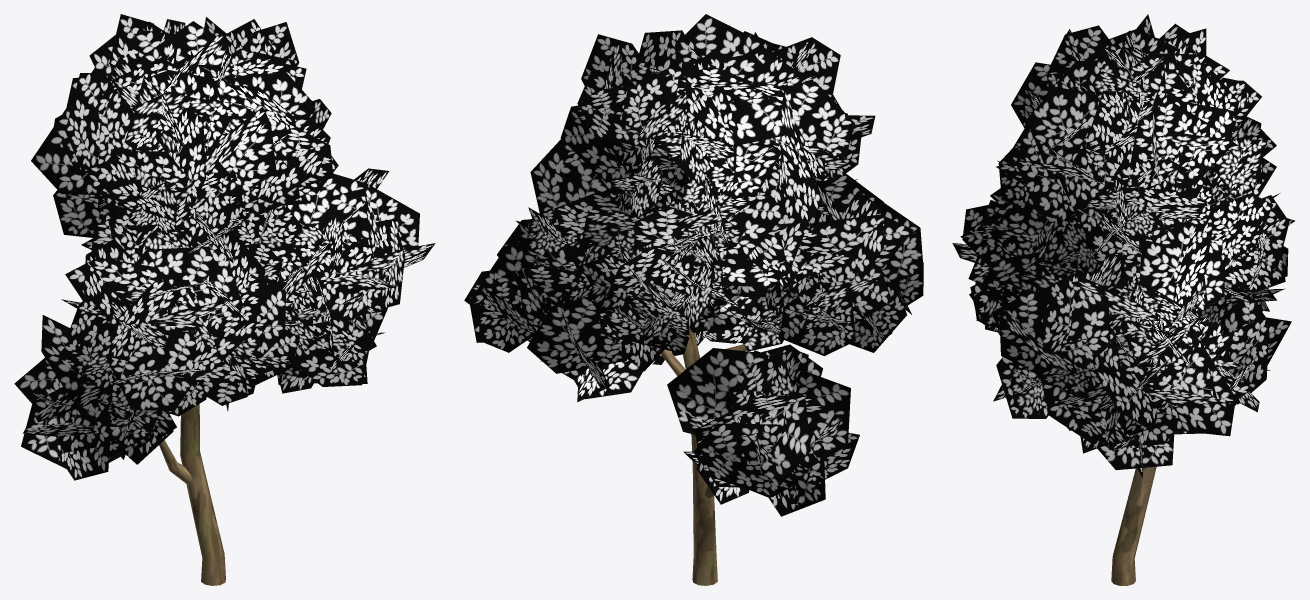
File: P_OakTree2_Red.obj
3 views of the same model, side by side, from view 1: azimuth 30°, elevation 25°; view 2: azimuth 150°, elevation 25°; view 3: azimuth 270°, elevation 25° (orthographic). The views are drawn at different scales.
Size of the model in its own units: 9.98 by 14.61 by 8.53.
